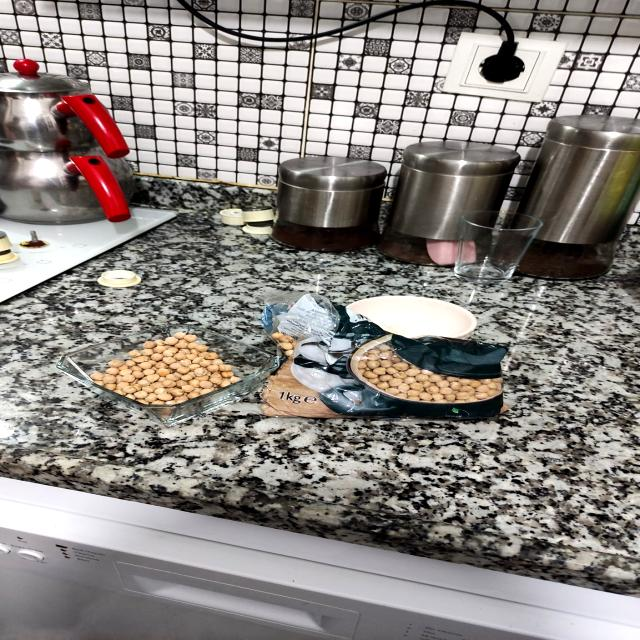chickpeas: (283, 327, 527, 418), (76, 321, 272, 424)
